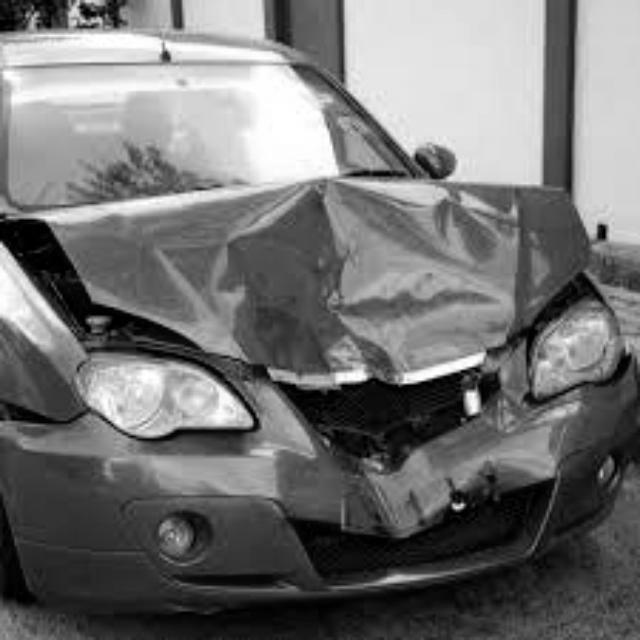bonnet-dent: (63, 154, 572, 361)
front-bumper-dent: (26, 408, 623, 581)
